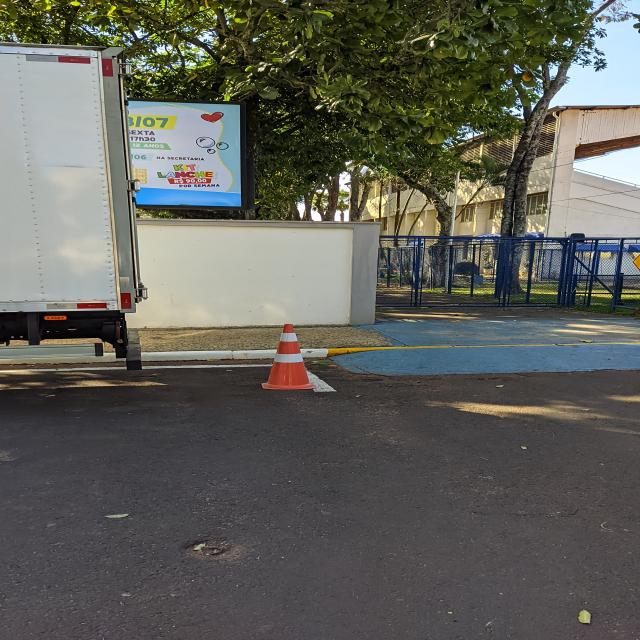cone: (256, 320, 320, 392)
